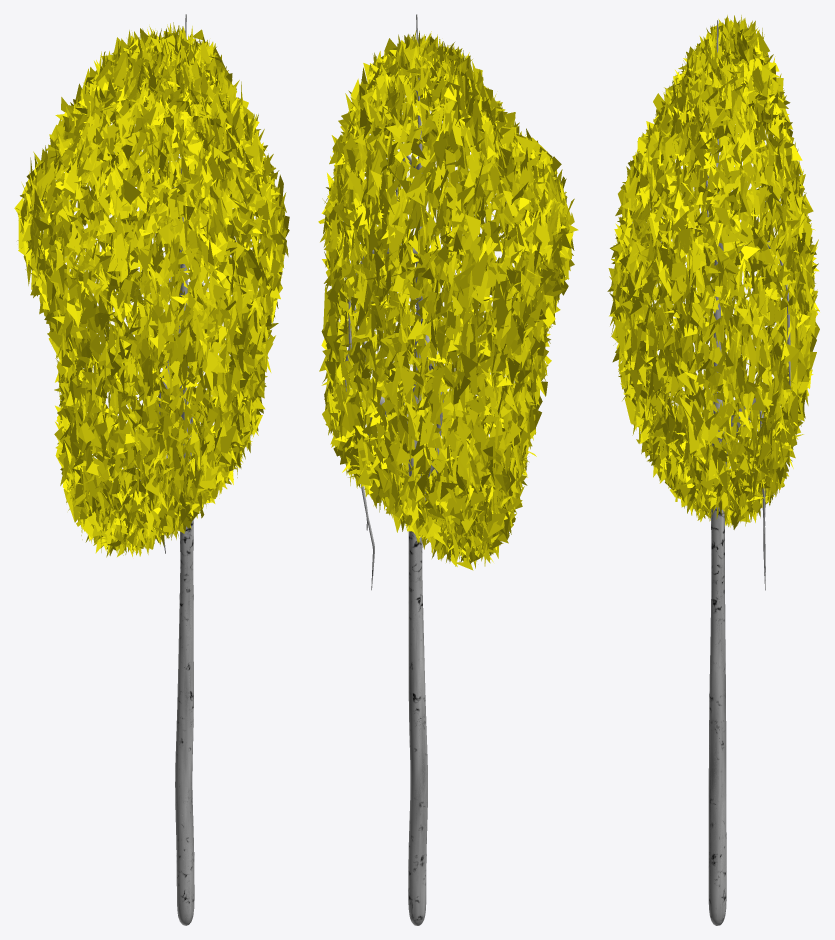
File: Leaves15.002.fbx
3 renders of one model, left to right at view 1: azimuth 30°, elevation 25°; view 2: azimuth 150°, elevation 25°; view 3: azimuth 270°, elevation 25°, orthographic.
Parts seen in each view (by area): view 1: Leaves15.002; view 2: Leaves15.002; view 3: Leaves15.002.
Boxes of the visible parts, x1,y1,x2,y2 form: Leaves15.002: (14, 14, 289, 925); Leaves15.002: (318, 14, 578, 925); Leaves15.002: (607, 15, 819, 925).
Size of the model in its own units: 739 by 2574 by 550.
Materials: 2 (1 with a texture image).
